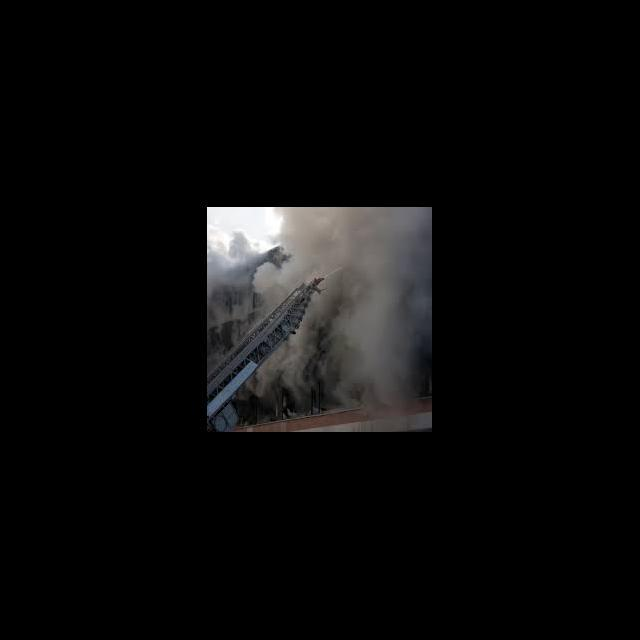Smoke: (280, 208, 432, 408)
